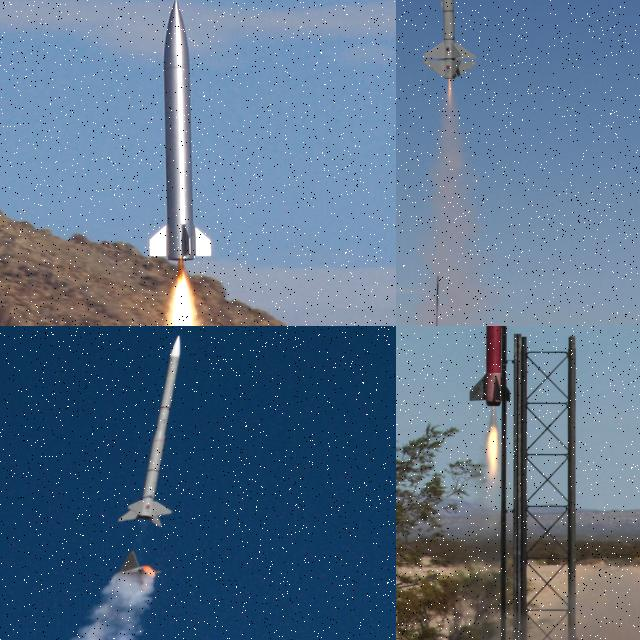Rocket: (148, 0, 213, 262), (116, 333, 183, 527), (421, 0, 479, 80), (468, 326, 512, 408)
